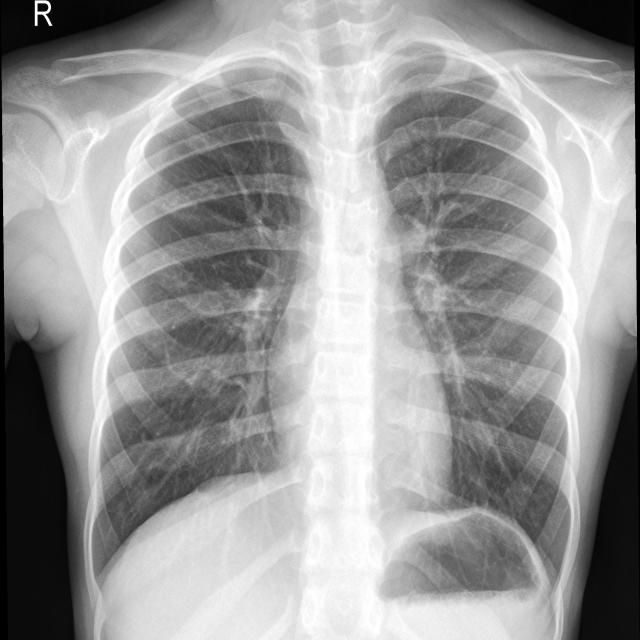no-pneumonia: (91, 68, 313, 577), (377, 77, 572, 585)
